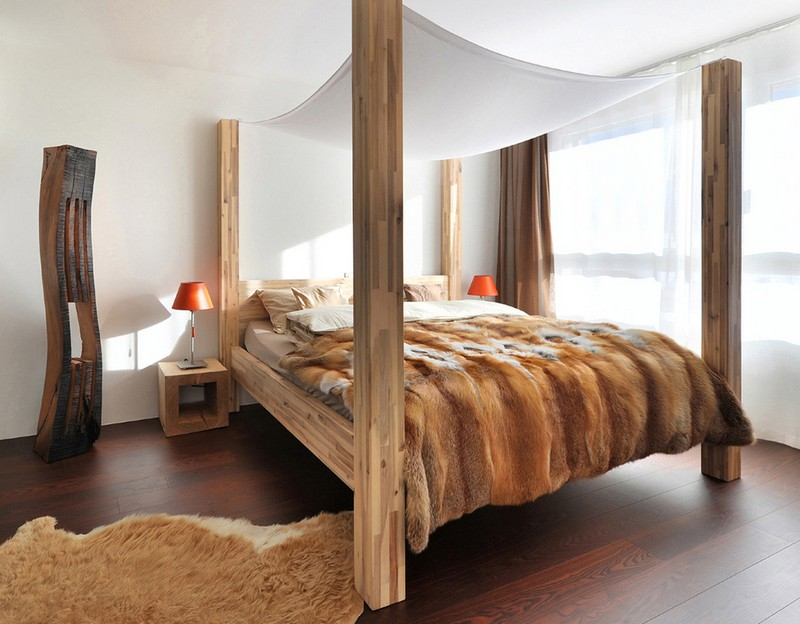bed: (206, 63, 770, 588)
lamp: (169, 279, 221, 369), (466, 273, 500, 301)
table: (156, 353, 234, 438)
